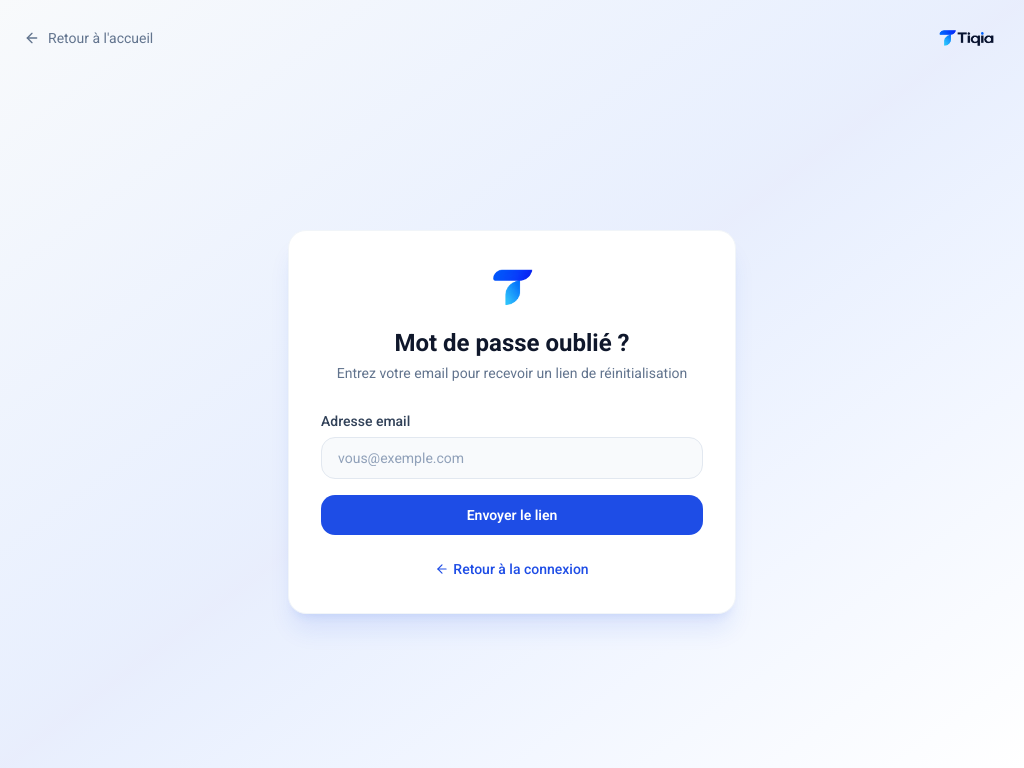
ForgotPasswordPage › shows a check-your-email confirmation after submitting
Type "me@example.com" into the field labelled "Adresse email" at x=512, y=458, box x1=321 y1=437 x2=703 y2=479
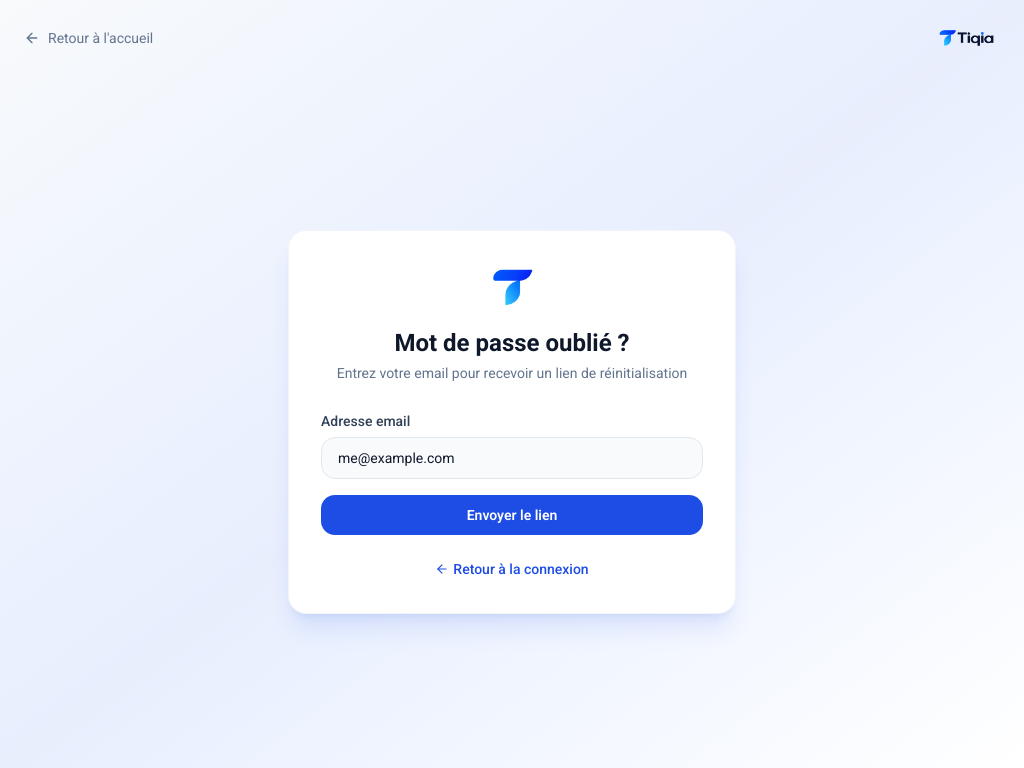
Click the button "Envoyer le lien" at x=512, y=515, box x1=321 y1=495 x2=703 y2=535
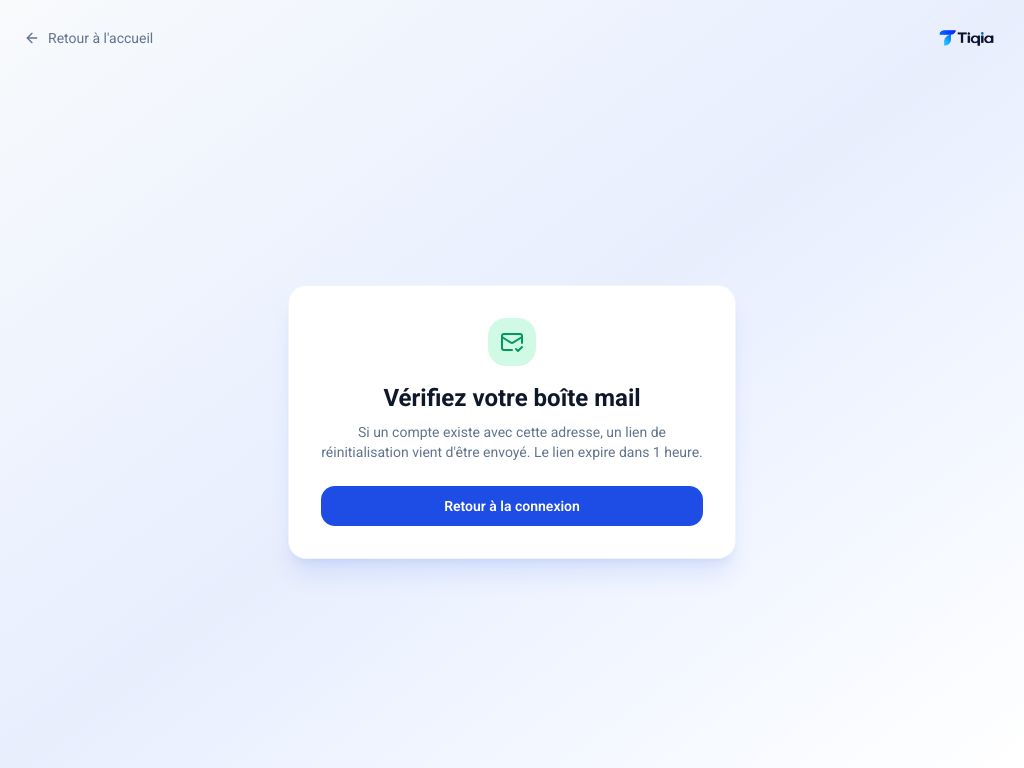
Result: the heading "Vérifiez votre boîte mail" is shown at x1=383 y1=384 x2=641 y2=412
